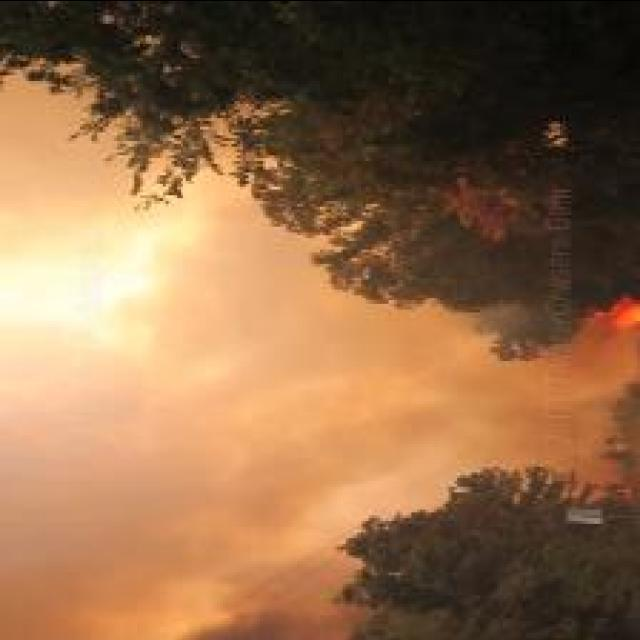Fire: (582, 292, 638, 332)
